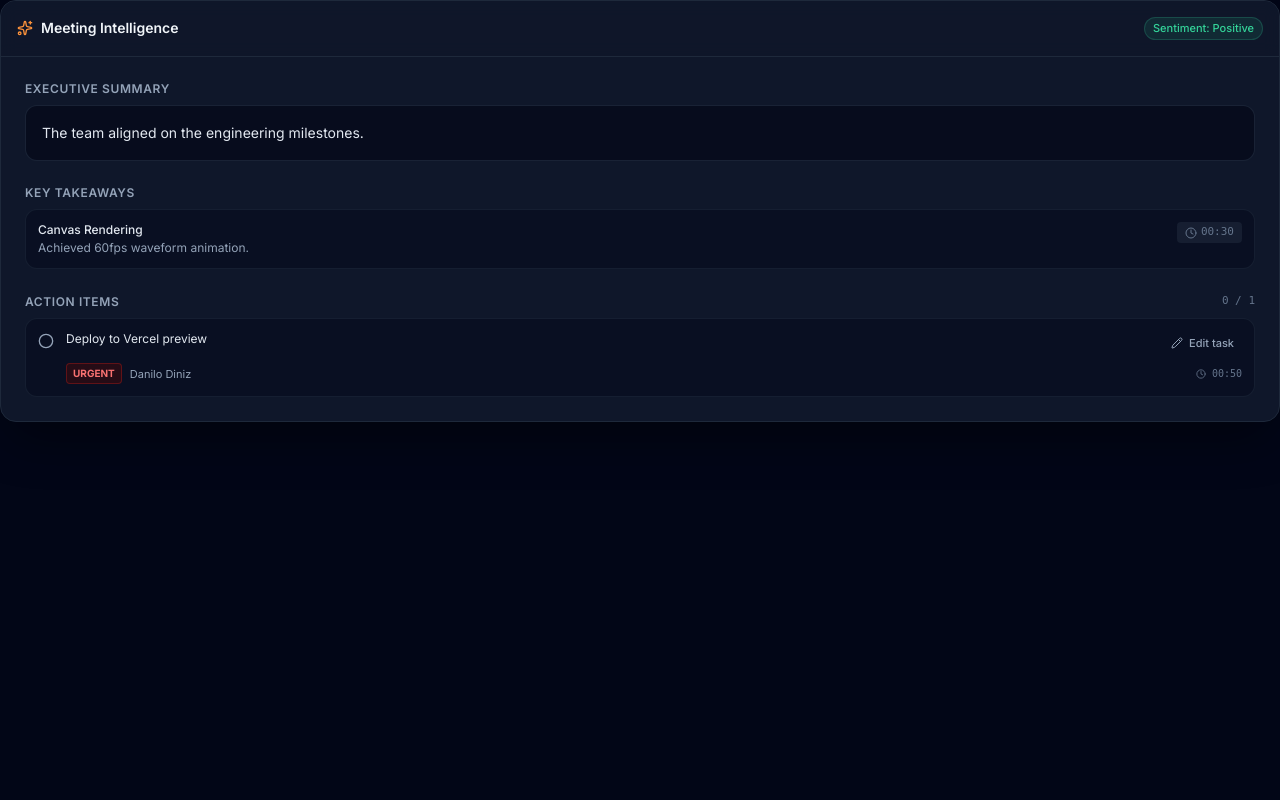
it: MeetingIntelligencePanel › should edit the task description, priority, and area from the modal
This screenshot has width=1280, height=800.
Click the button "Edit task". click: (1202, 343)
box: [1163,331,1242,355]
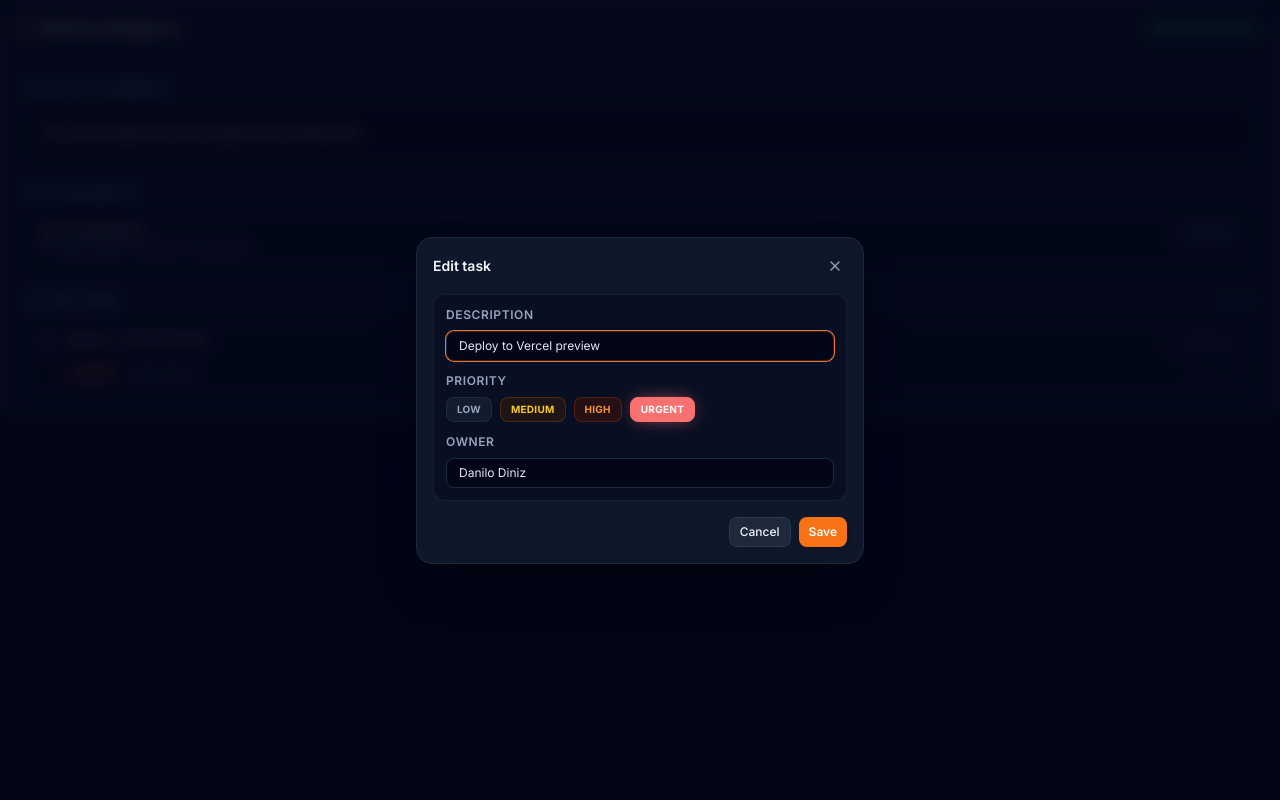
Check: the dialog "Edit task" is shown, box [416,236,864,564]
Replace the text in the field named "Task description" with "Ship the preview build". click: (640, 346)
box: [446,330,834,360]
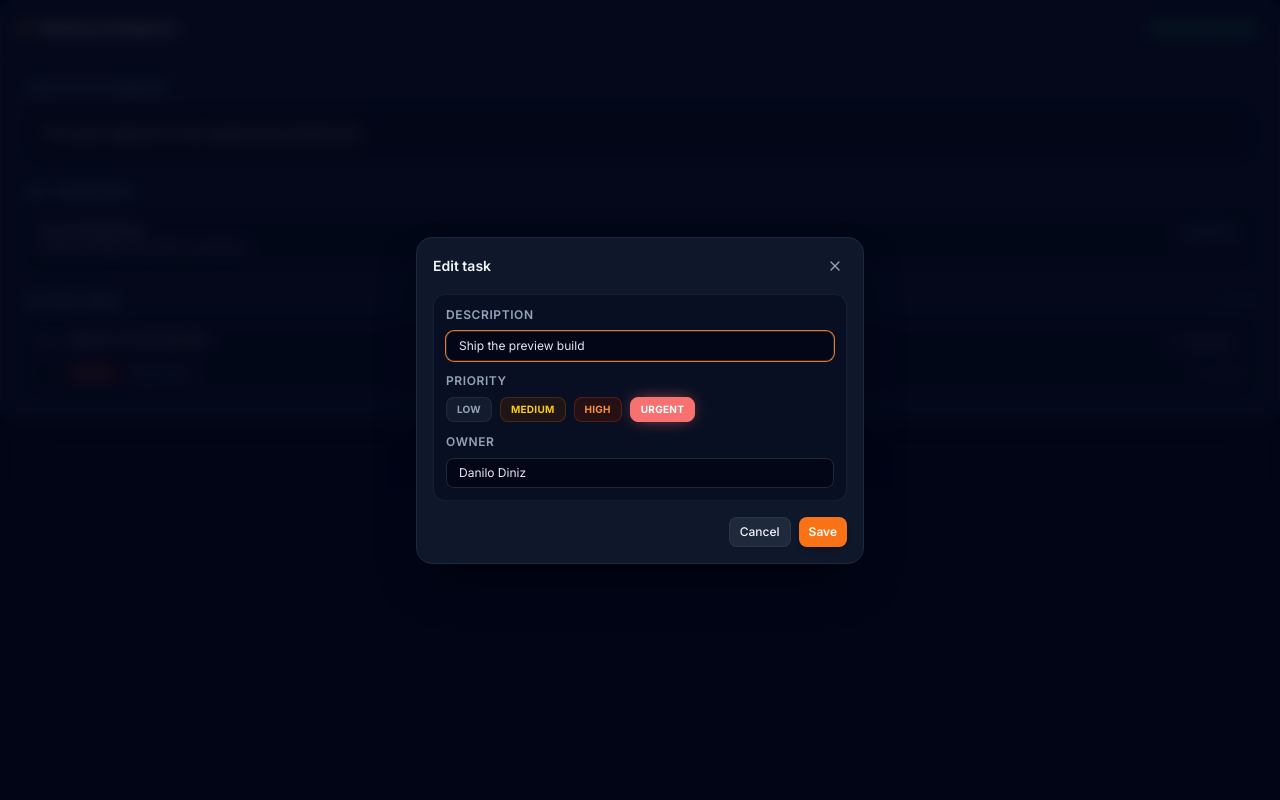
Click the radio button labelled "high". click: (598, 409)
box: [574,396,622,422]
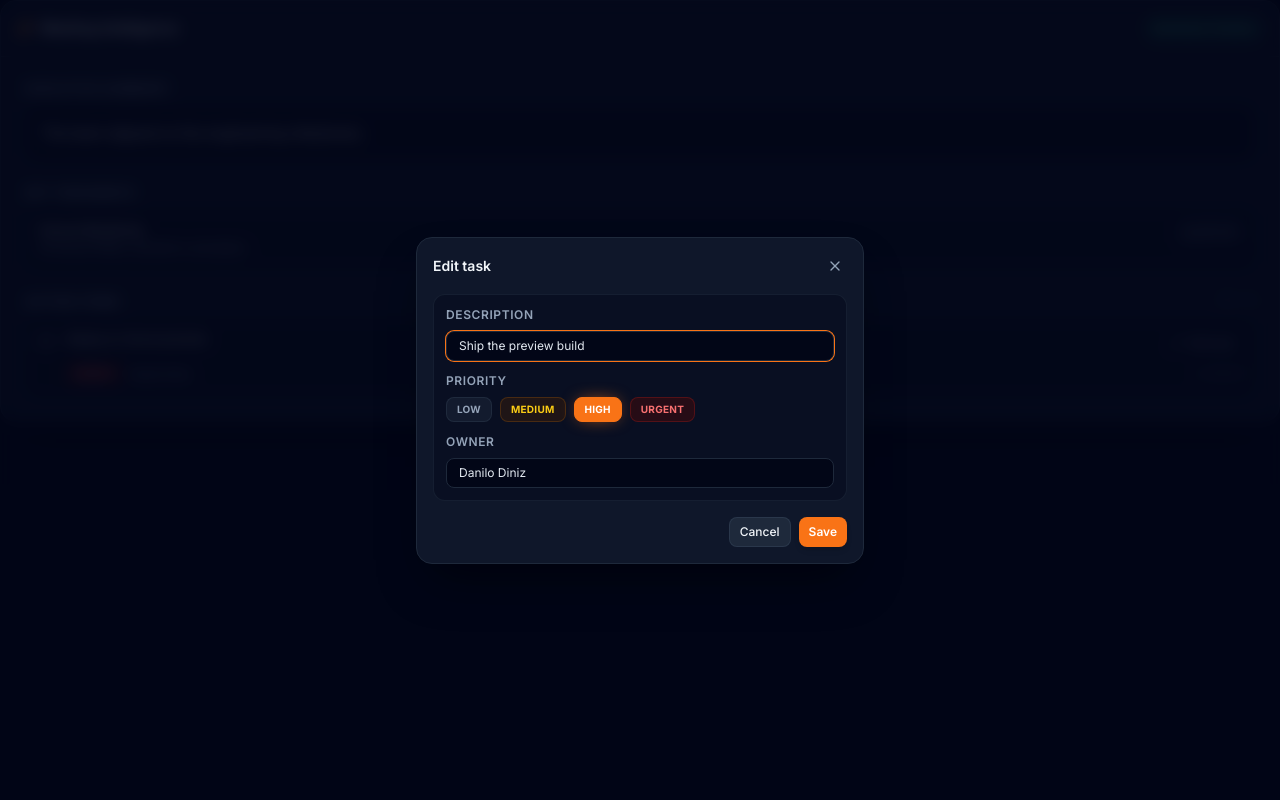
Replace the text in the field named "Task owner" with "DevOps". click: (640, 472)
box: [446,458,834,488]
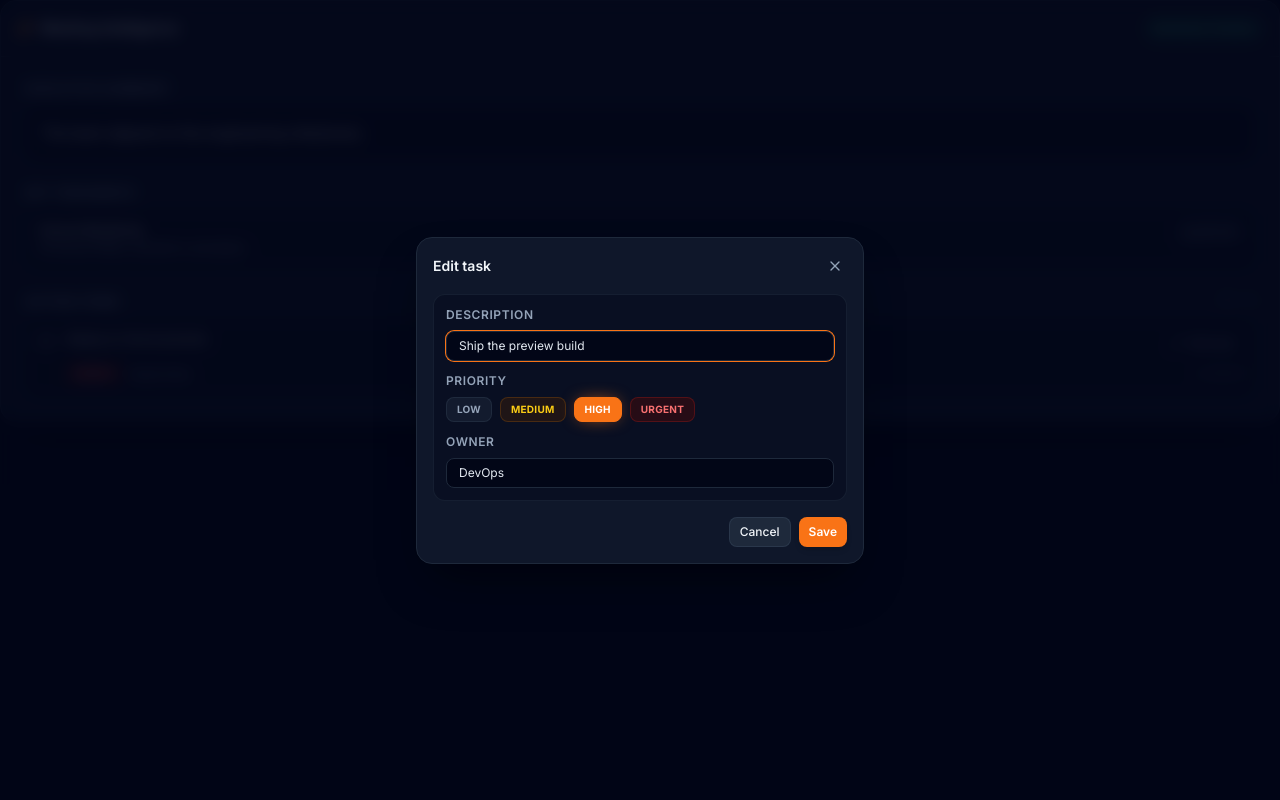
Click the button "Save". click: (823, 532)
box: [799,516,847,546]
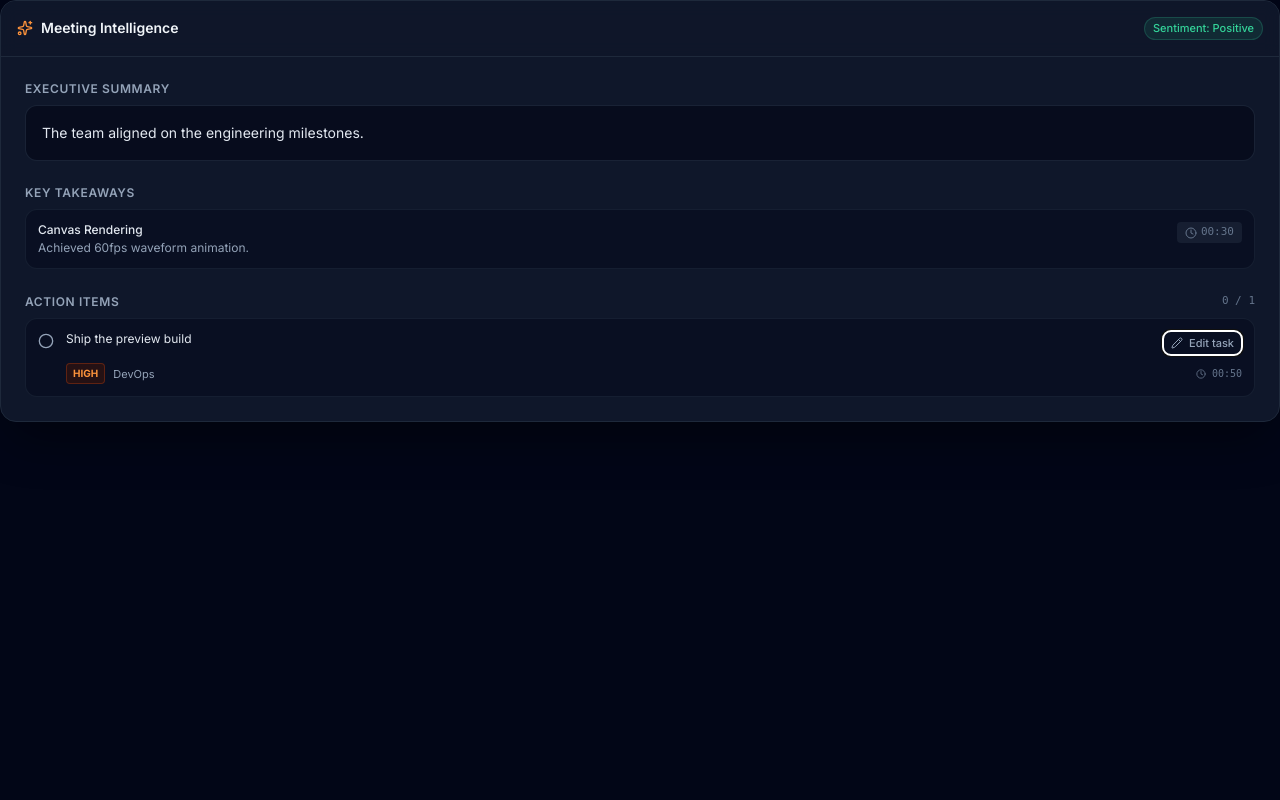
Check: the text "Ship the preview build" is shown, box [66,331,192,346]
Check: the text "DevOps" is shown, box [113,366,155,382]
Check: the dialog is gone
